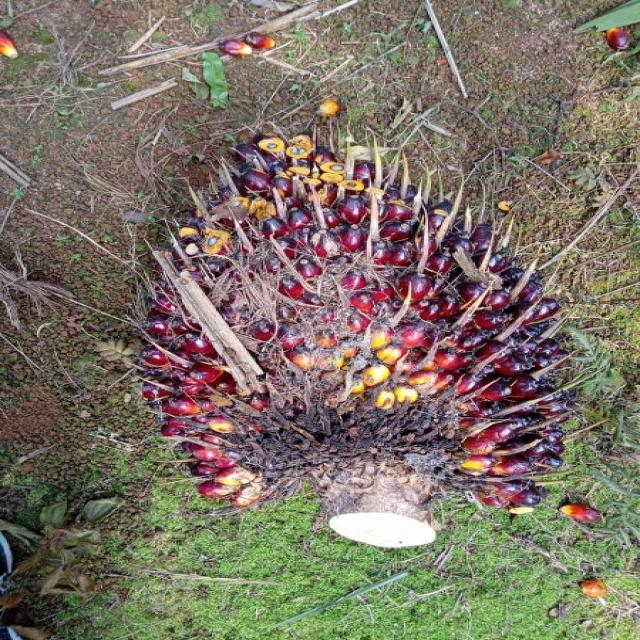fraksi 1: (108, 102, 618, 575)
